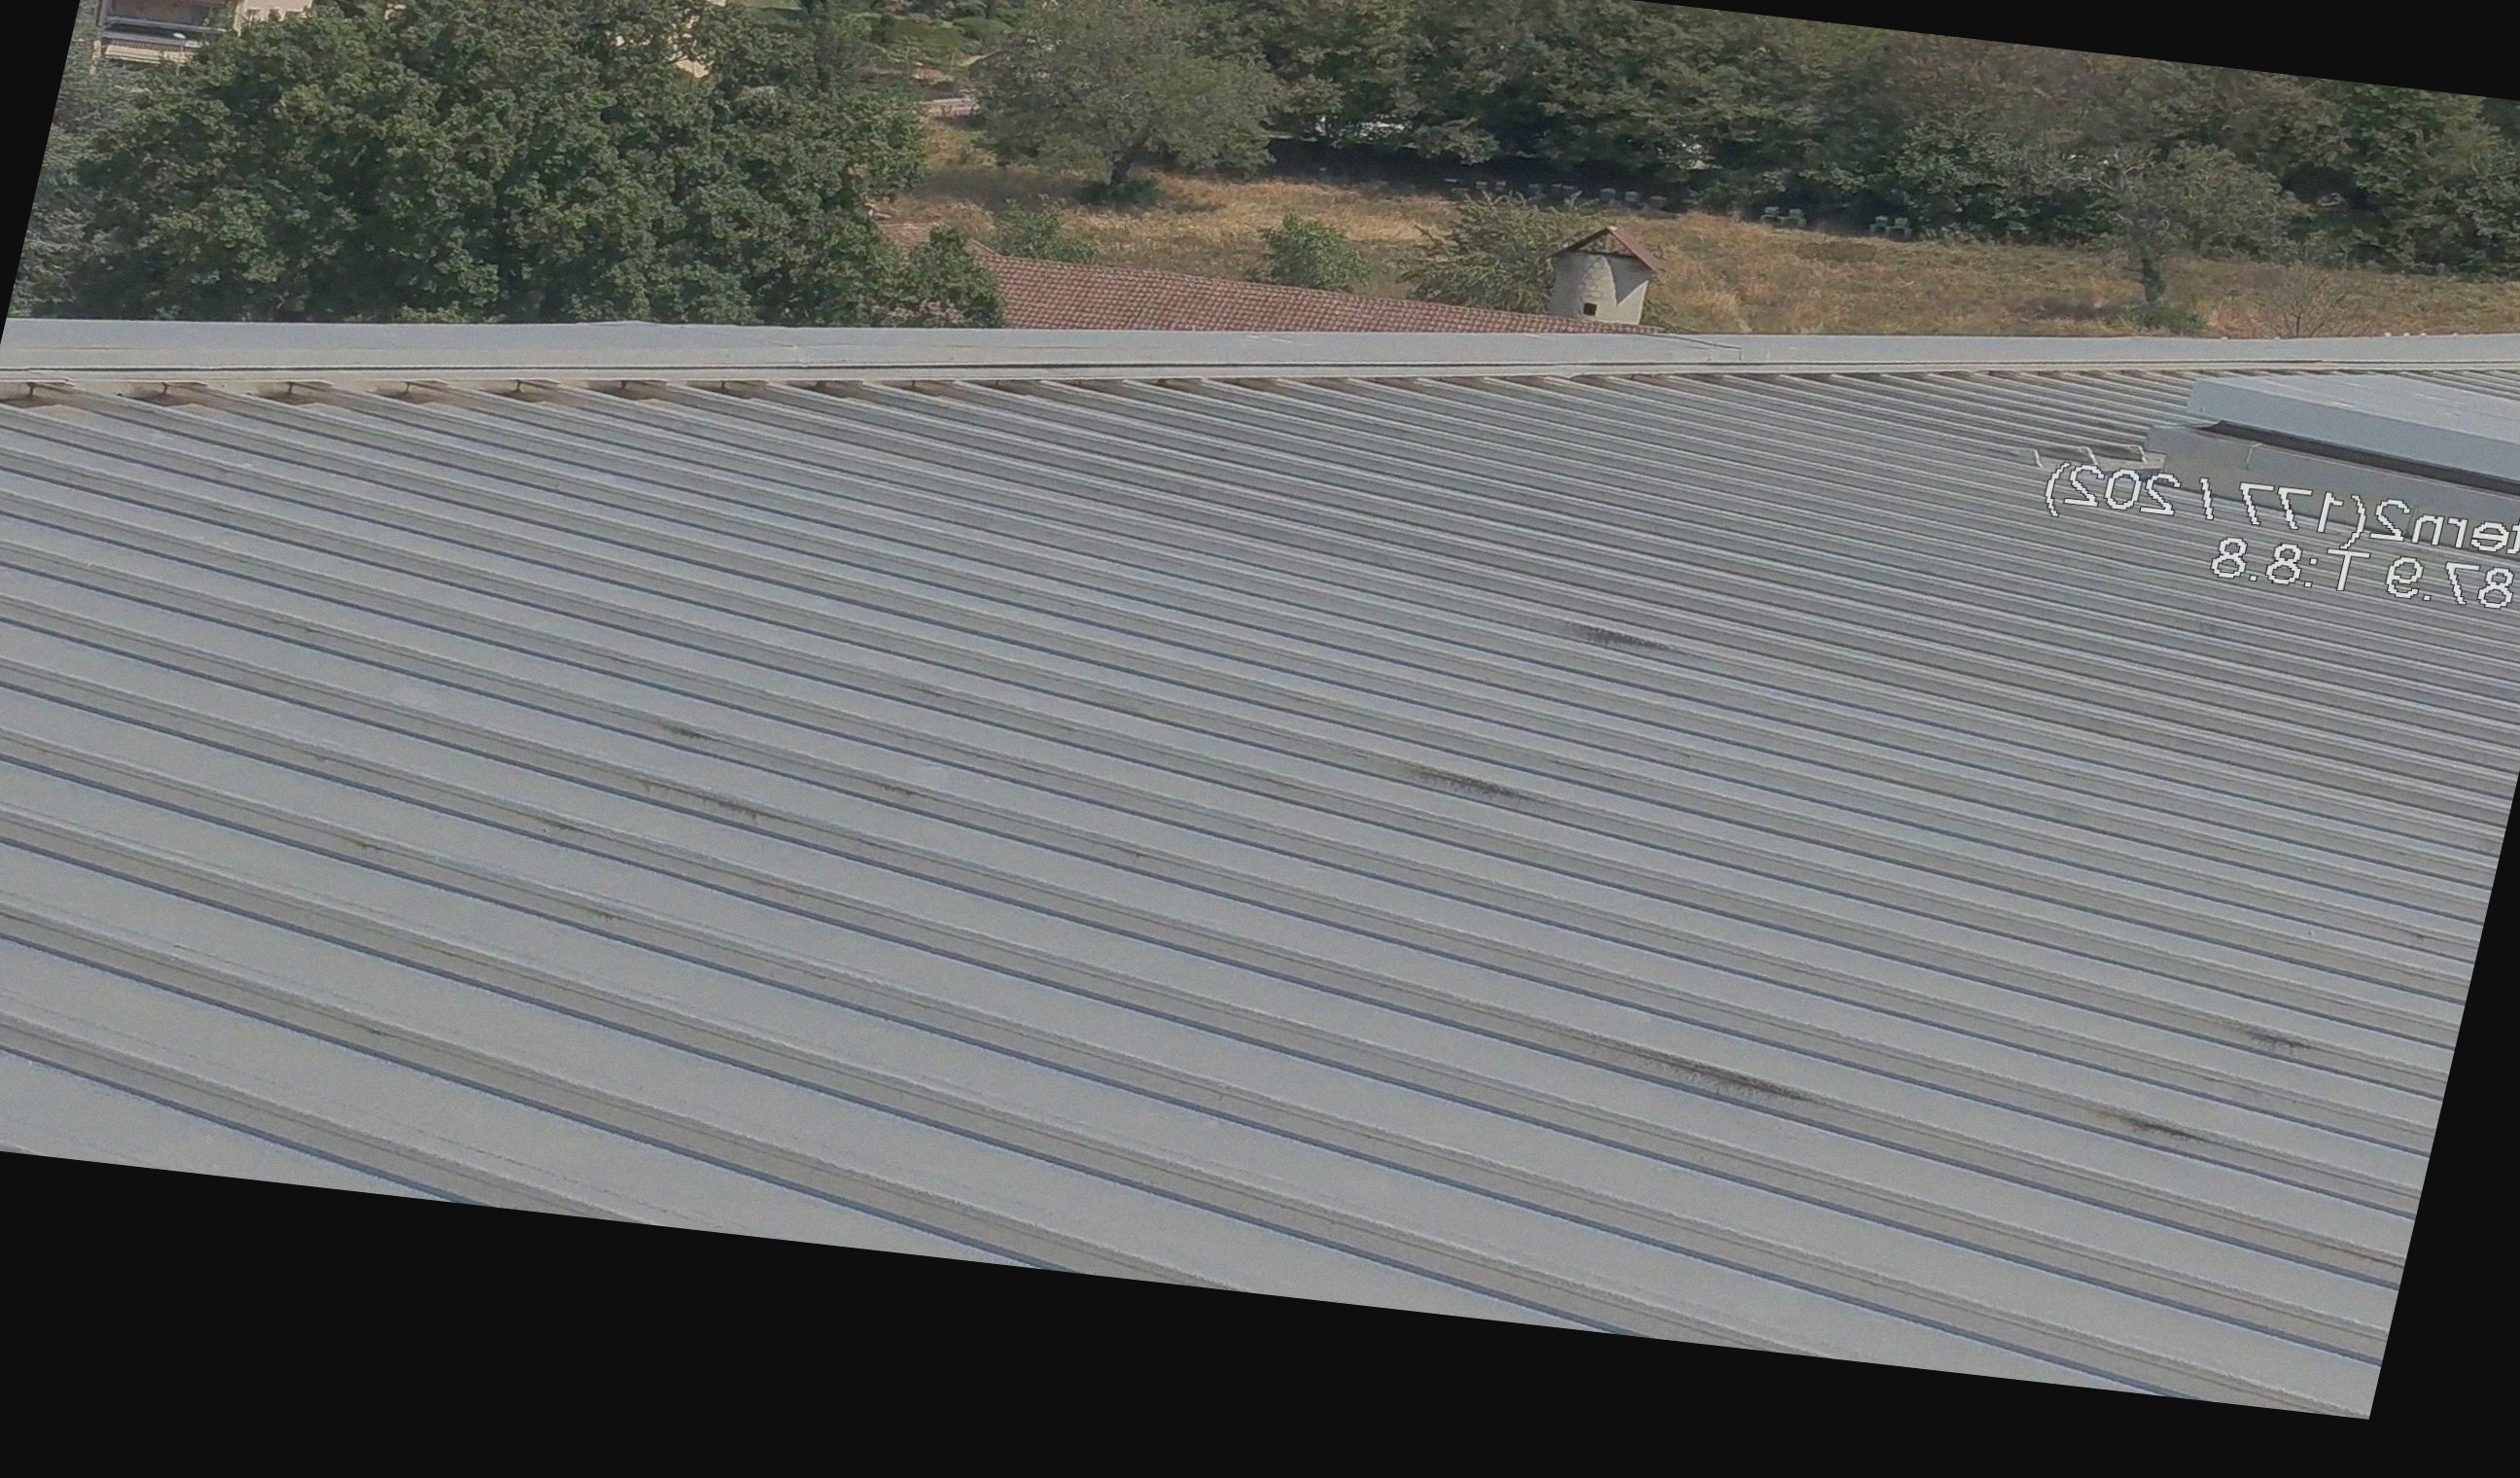Other: (1505, 199, 1683, 340)
